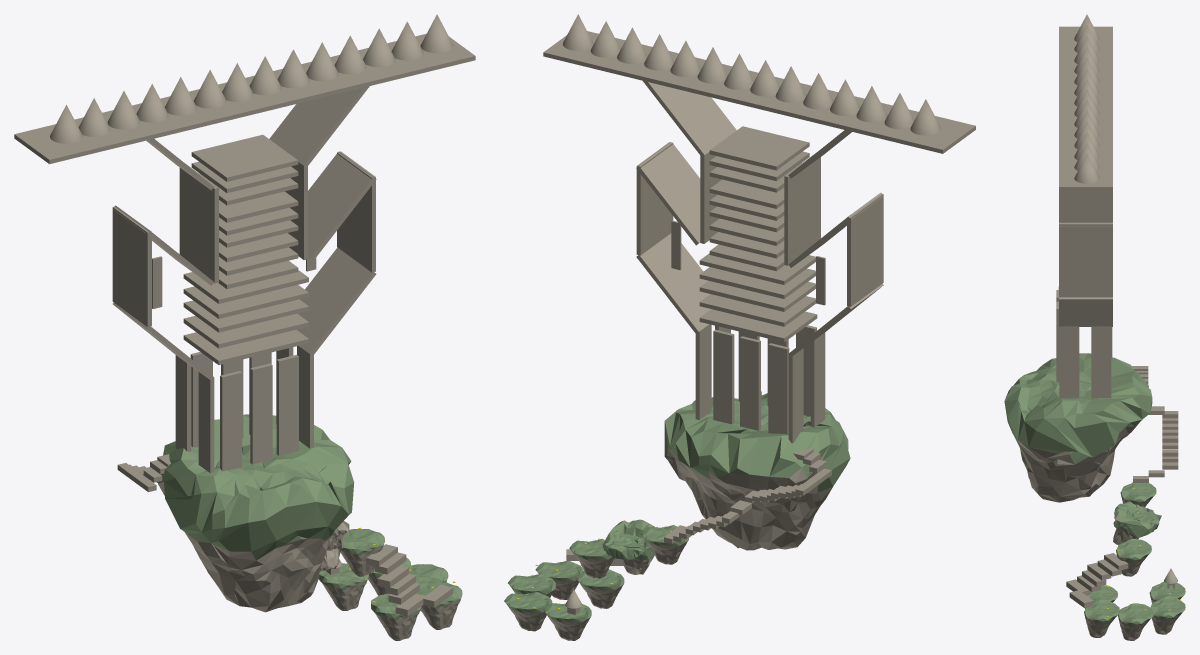
File: 3d2 platform.fbx
3 views of the same model, side by side, from view 1: azimuth 30°, elevation 25°; view 2: azimuth 150°, elevation 25°; view 3: azimuth 270°, elevation 25° (orthographic). The views are drawn at different scales.
Visible parts, largest first — view 1: polySurface9, pCube79, pCube48, pCube49, pCube51, pCube53, pCube55, pCube78, pCube50, pCube63, pCube62, pCube64 (+40 smaller); view 2: polySurface9, pCube79, pCube49, pCube51, pCube48, pCube53, pCube55, pCube78, pCube50, pCube61, polySurface7, pCube60 (+40 smaller); view 3: polySurface9, pCube79, pCube50, pCube54, pCube48, pCube45, pCube58, polySurface7, polySurface3, polySurface2, polySurface4, polySurface6 (+10 smaller).
Part boxes in pixels (x1,y1,x2,y2): polySurface9: (158,414,354,612); pCube79: (14,33,475,164); pCube48: (297,247,376,356); pCube49: (112,206,151,326); pCube51: (308,151,376,261); pCube53: (179,163,218,283); pCube55: (269,83,369,166); pCube78: (191,134,298,181); pCube50: (337,151,375,272); pCube63: (250,363,272,464); pCube62: (276,355,298,455); pCube64: (220,371,242,471); polySurface9: (664,391,850,550); pCube79: (543,31,975,153); pCube49: (847,194,883,306); pCube51: (636,142,700,245); pCube48: (636,233,710,333); pCube53: (784,154,820,265); pCube55: (642,78,736,156); pCube78: (709,126,809,170); pCube50: (636,142,673,255); pCube61: (713,329,734,424); polySurface7: (602,519,657,574); pCube60: (740,336,760,430); polySurface9: (1004,353,1152,502); pCube79: (1059,26,1112,190); pCube50: (1059,222,1112,297); pCube54: (1059,190,1112,222); pCube48: (1059,297,1112,326); pCube45: (1091,326,1111,398); pCube58: (1059,326,1079,398); polySurface7: (1113,501,1161,544); polySurface3: (1118,603,1153,640); polySurface2: (1084,600,1119,637); polySurface4: (1150,597,1185,634); polySurface6: (1116,539,1151,576).
Size of the model in its own units: 145 by 193 by 66.35.
